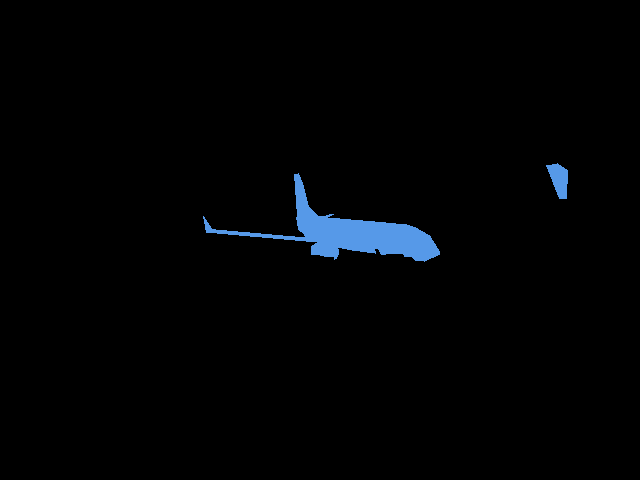Airplane: (203, 173, 440, 262), (546, 163, 567, 199)
